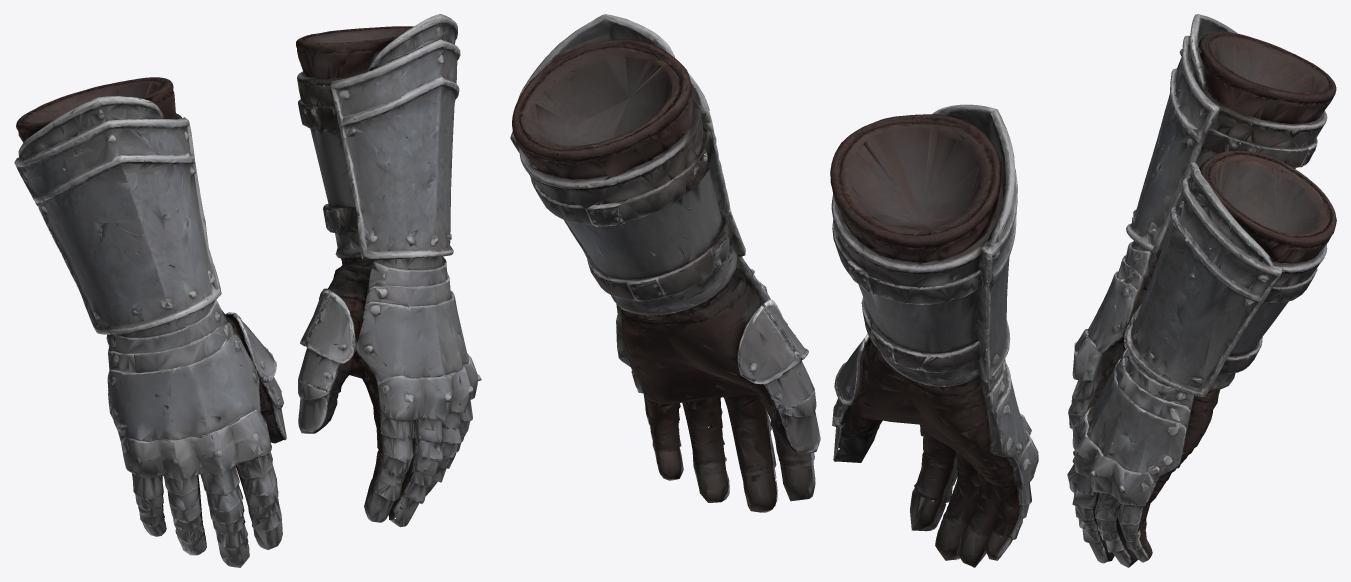
File: eq_glove.glb
3 renders of one model, left to right at view 1: azimuth 30°, elevation 25°; view 2: azimuth 150°, elevation 25°; view 3: azimuth 270°, elevation 25°, orthographic. The views are drawn at different scales.
Visible parts, largest first — view 1: tripo_node_4d24f994-3c57-40c0-a7b1-214ac6b2aa1c; view 2: tripo_node_4d24f994-3c57-40c0-a7b1-214ac6b2aa1c; view 3: tripo_node_4d24f994-3c57-40c0-a7b1-214ac6b2aa1c.
Boxes of the visible parts, x1,y1,x2,y2 form: tripo_node_4d24f994-3c57-40c0-a7b1-214ac6b2aa1c: (14,14,481,567); tripo_node_4d24f994-3c57-40c0-a7b1-214ac6b2aa1c: (510,14,1038,567); tripo_node_4d24f994-3c57-40c0-a7b1-214ac6b2aa1c: (1067,14,1336,567).
Size of the model in its own units: 0.2771 by 0.28 by 0.1589.
Materials: 1 (1 with a texture image).
